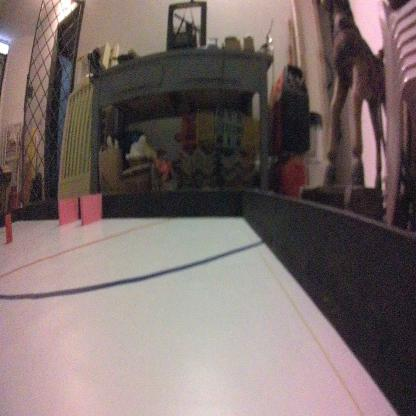magenta: (78, 191, 102, 225), (57, 194, 78, 223)
red: (2, 207, 14, 249)
